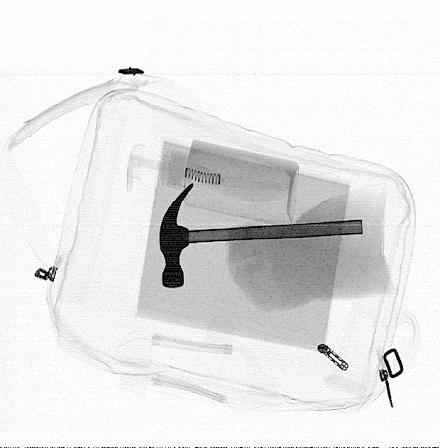Hammer: (158, 181, 364, 290)
